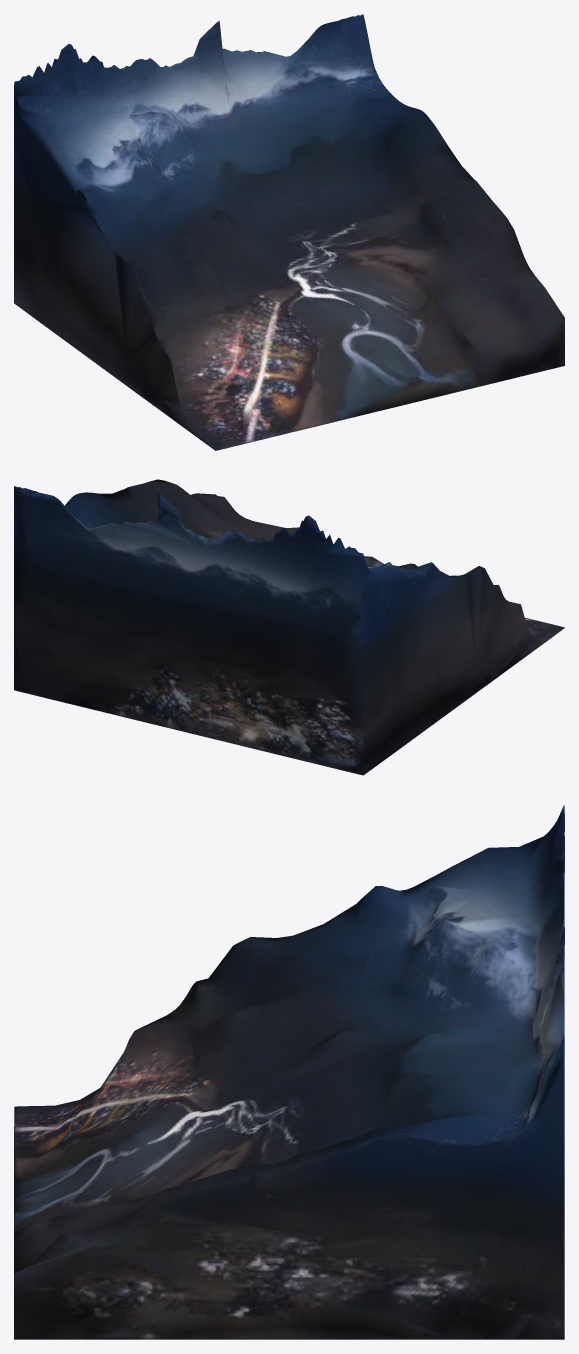
3 views of the same model, one above another, from view 1: azimuth 30°, elevation 25°; view 2: azimuth 150°, elevation 25°; view 3: azimuth 270°, elevation 25° (orthographic). The views are drawn at different scales.
Parts seen in each view (by area): view 1: node_0; view 2: node_0; view 3: node_0.
Part boxes in pixels (bbox=[...]): node_0: bbox=[14, 14, 564, 450]; node_0: bbox=[14, 479, 564, 775]; node_0: bbox=[14, 805, 564, 1339].
Bounding box in the file's own units: 0.7664 × 0.5167 × 0.7671.
1 material, 1 textured.
